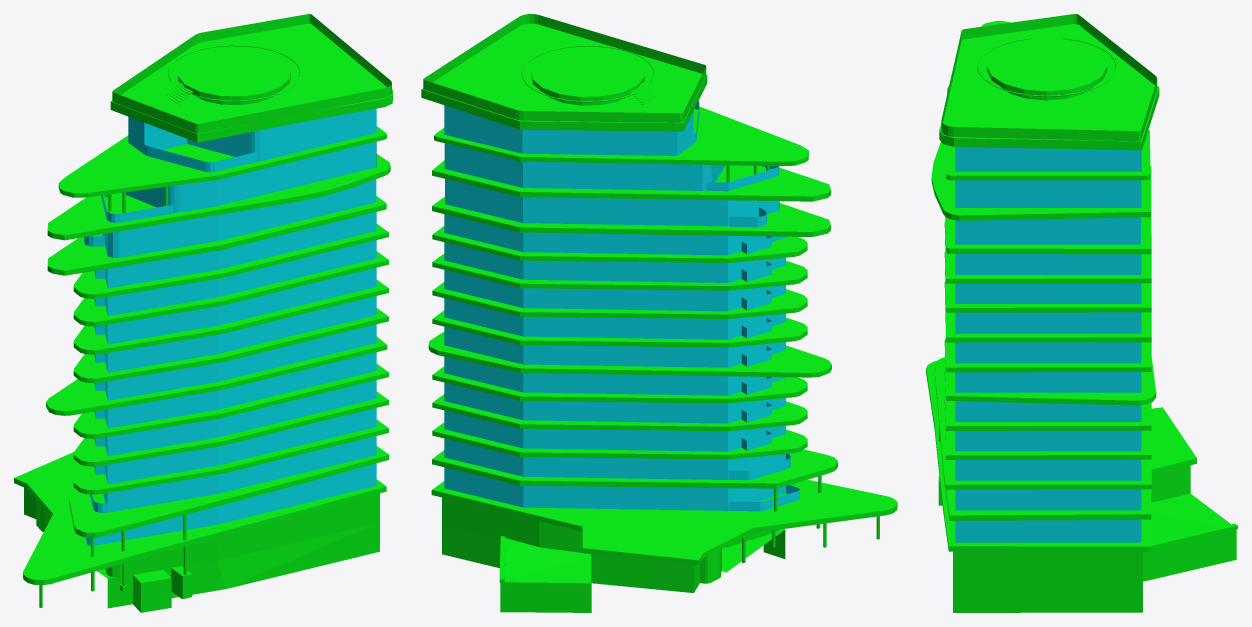
Rendered from 20220512_LivingTomorrow_TheBuilding_A001.fbx.
The picture shows the model from 3 angles, left to right: view 1: azimuth 30°, elevation 25°; view 2: azimuth 150°, elevation 25°; view 3: azimuth 270°, elevation 25°; orthographic projection. The views are drawn at different scales.
Parts seen in each view (by area): view 1: Plane049; view 2: Plane049; view 3: Plane049.
Boxes of the visible parts, x1,y1,x2,y2 form: Plane049: (14,14,392,612); Plane049: (421,14,897,612); Plane049: (926,14,1237,612).
Size of the model in its own units: 227 by 270 by 154.
